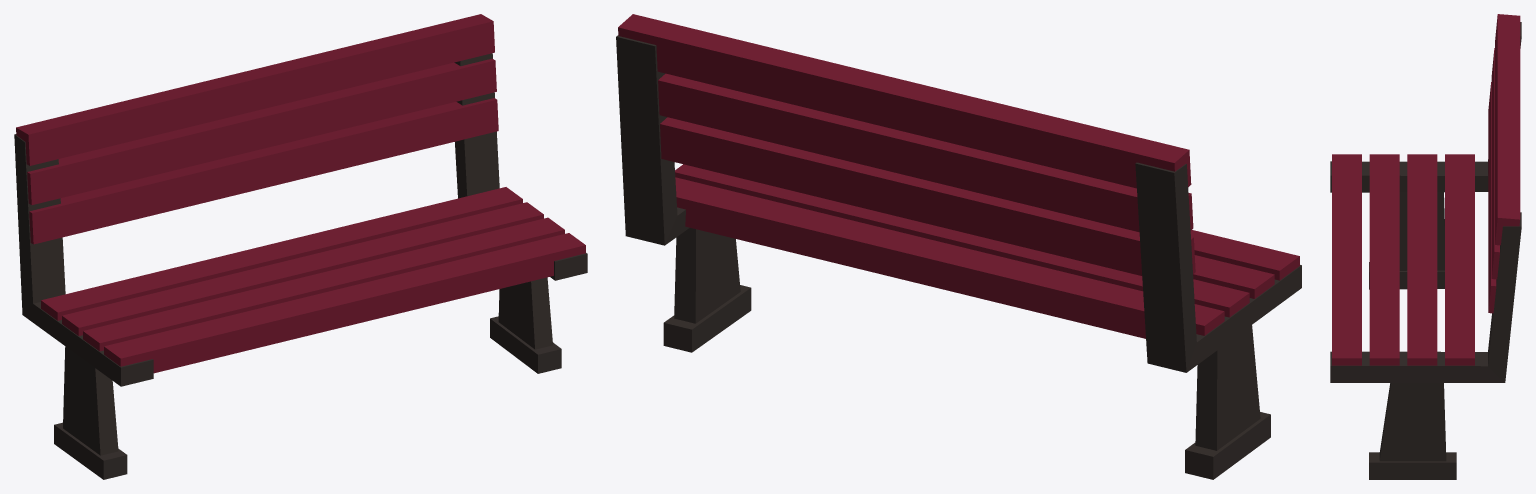
Rendered from Bench.fbx.
3 views of the same model, side by side, from view 1: azimuth 30°, elevation 25°; view 2: azimuth 150°, elevation 25°; view 3: azimuth 270°, elevation 25° (orthographic). The views are drawn at different scales.
Visible parts, largest first — view 1: Bench; view 2: Bench; view 3: Bench.
Boxes of the visible parts, left/top/right/bottom form: Bench: left=14, top=14, right=587, bottom=479; Bench: left=616, top=14, right=1301, bottom=479; Bench: left=1330, top=14, right=1521, bottom=479.
Size of the model in its own units: 645 by 386 by 254.
